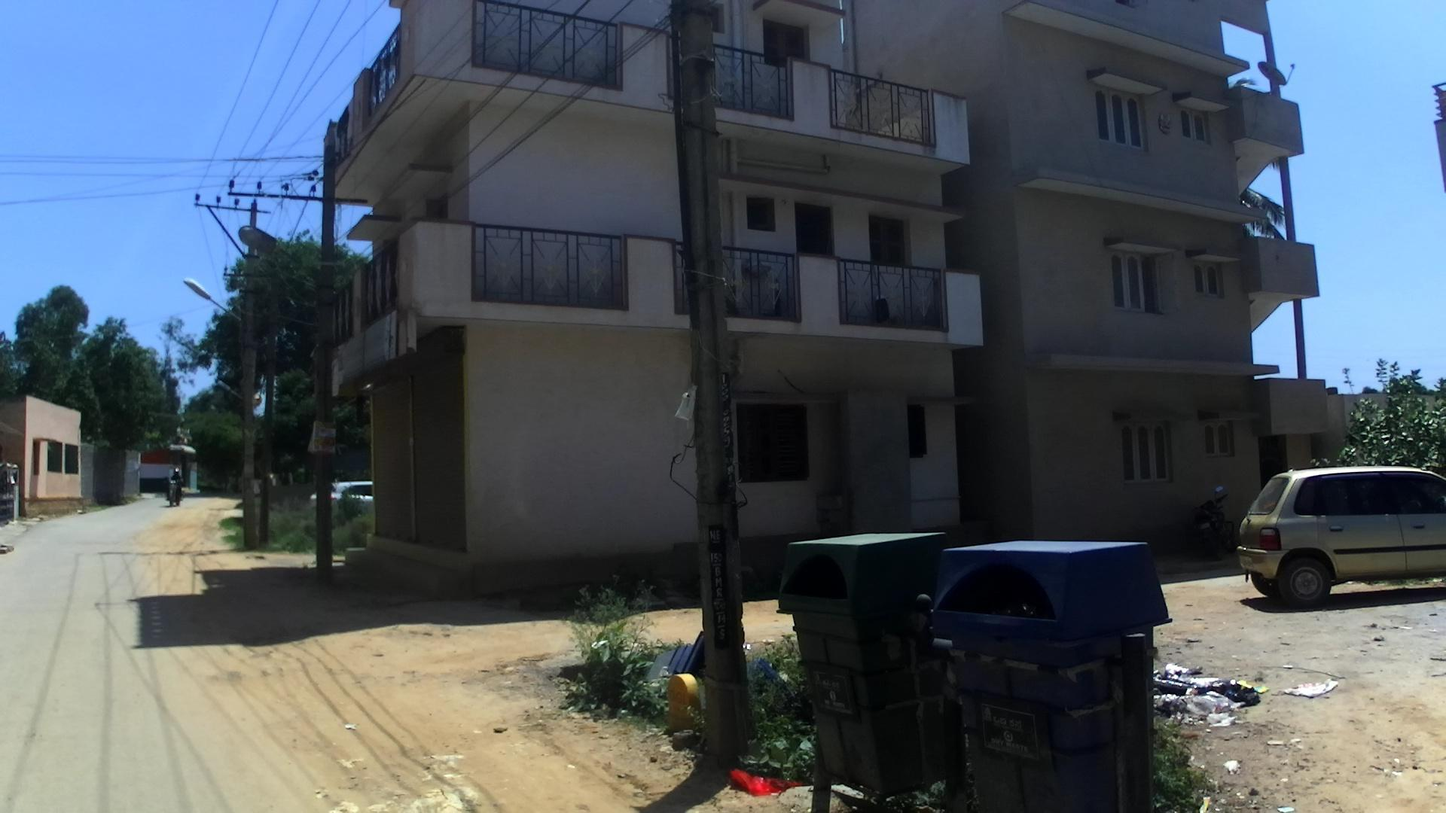streetlight: (182, 279, 255, 351)
